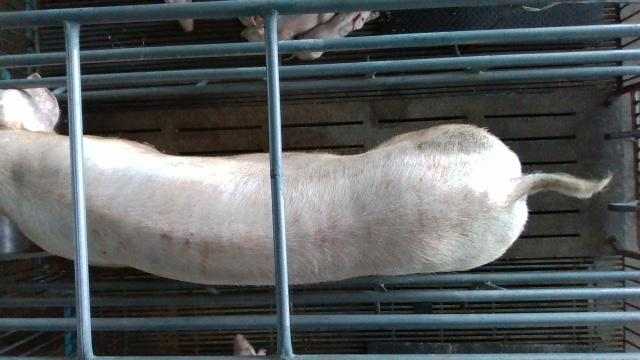piglet: (283, 12, 379, 59), (242, 13, 334, 40)
sow-stand-feed: (0, 74, 613, 286)
